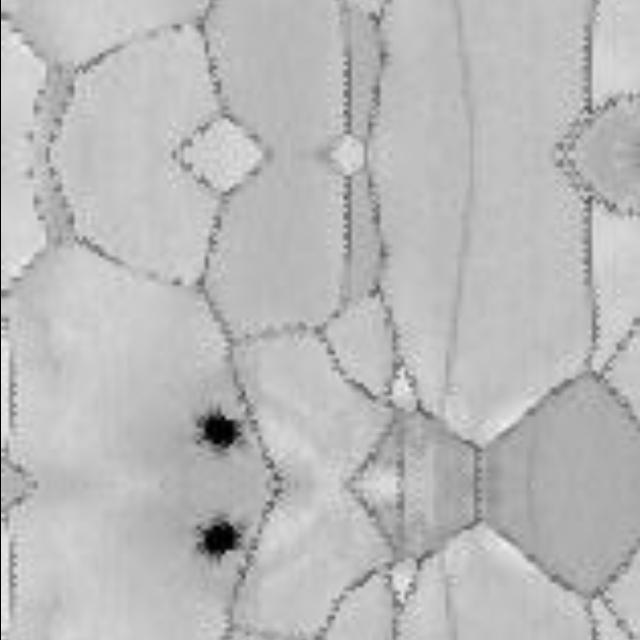good_void: (191, 402, 246, 455), (191, 513, 246, 566)
